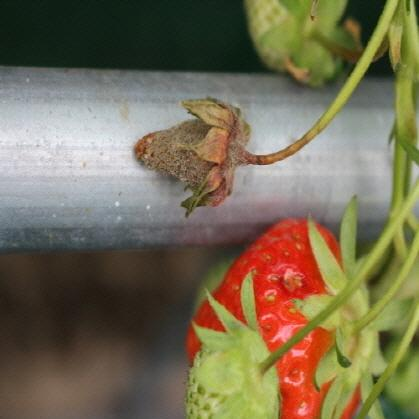Gray Mold: (132, 96, 266, 219)
